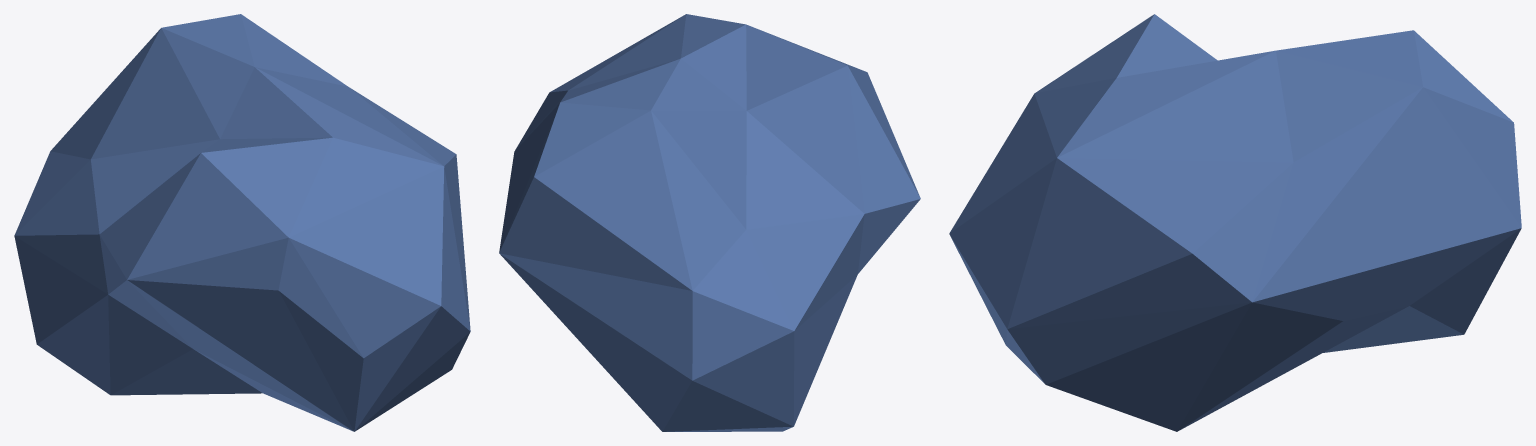
File: Rock_B_005.fbx
The picture shows the model from 3 angles, left to right: view 1: azimuth 30°, elevation 25°; view 2: azimuth 150°, elevation 25°; view 3: azimuth 270°, elevation 25°; orthographic projection. The views are drawn at different scales.
Parts seen in each view (by area): view 1: Rock B.005; view 2: Rock B.005; view 3: Rock B.005.
Part boxes in pixels (bbox=[...]): Rock B.005: bbox=[14, 14, 470, 431]; Rock B.005: bbox=[499, 14, 920, 431]; Rock B.005: bbox=[949, 14, 1521, 431].
Bounding box in the file's own units: 45.28 × 39.04 × 56.69.
